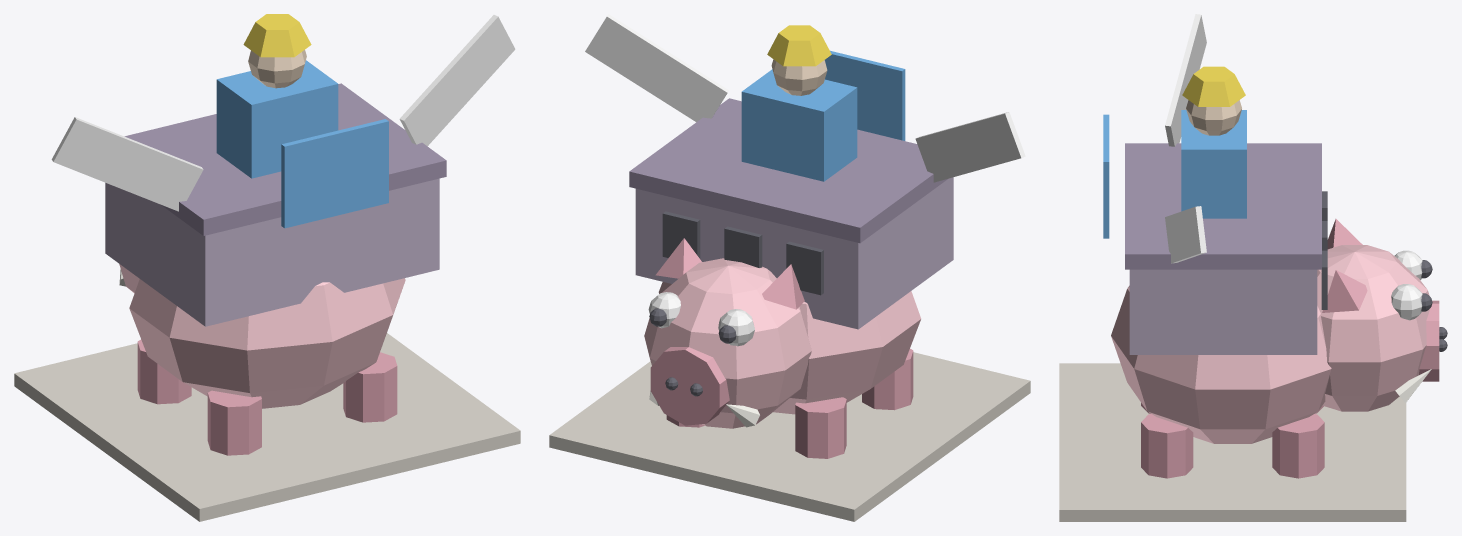
The model's file is tower_king.glb.
3 views of the same model, side by side, from view 1: azimuth 30°, elevation 25°; view 2: azimuth 150°, elevation 25°; view 3: azimuth 270°, elevation 25° (orthographic). The views are drawn at different scales.
Parts seen in each view (by area): view 1: tower_king; view 2: tower_king; view 3: tower_king.
Boxes of the visible parts, x1,y1,x2,y2 form: tower_king: (14, 14, 520, 521); tower_king: (549, 14, 1030, 521); tower_king: (1059, 14, 1447, 521).
Size of the model in its own units: 8.25 by 6.83 by 6.42.
